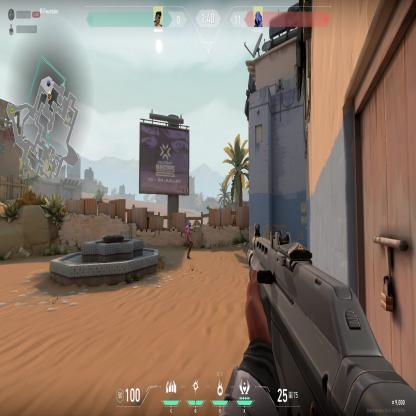enemy: (184, 219, 197, 260)
